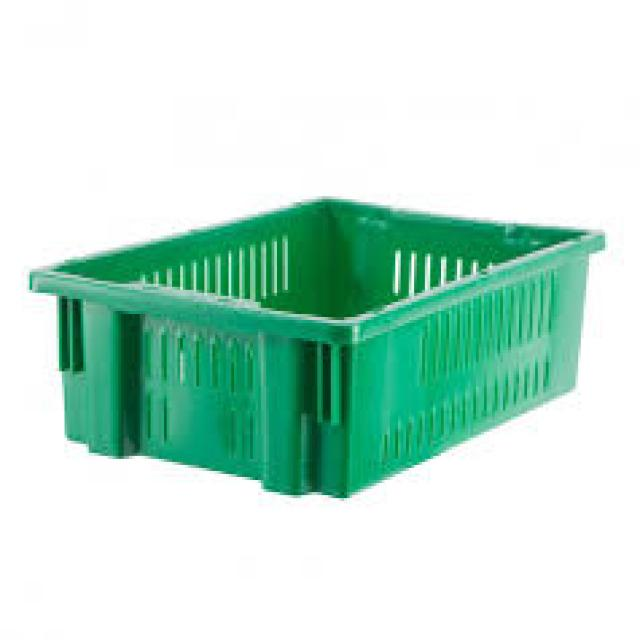basket: (6, 163, 608, 532)
